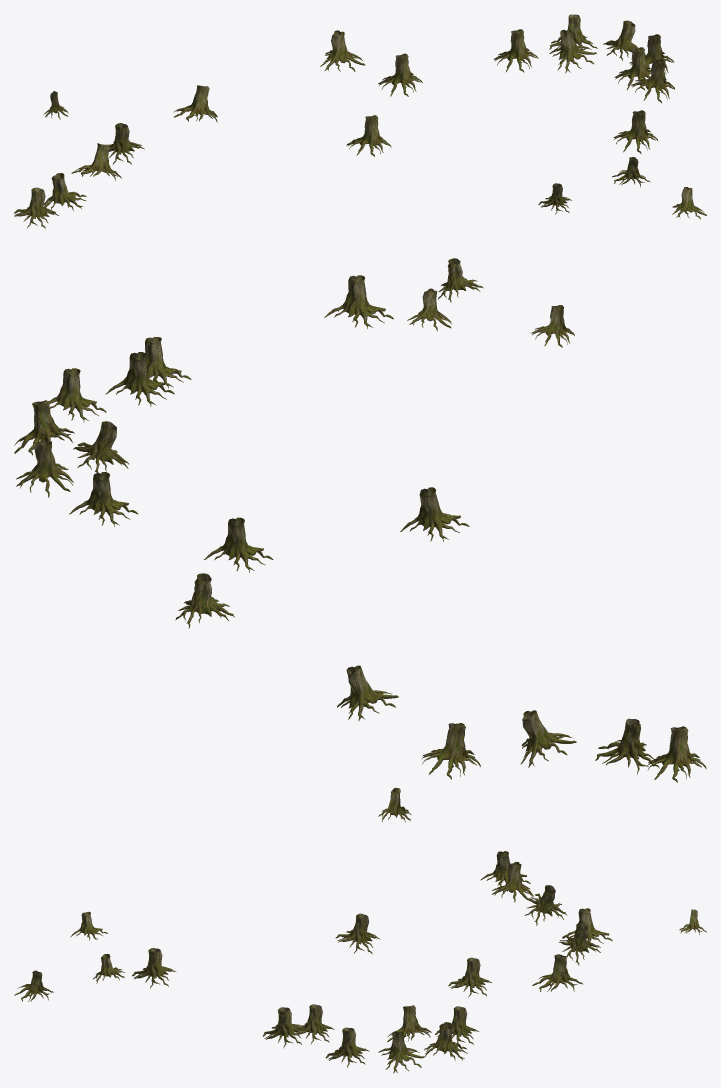
Rendered from treeAa.fbx.
3 renders of one model, top to bottom at view 1: azimuth 30°, elevation 25°; view 2: azimuth 150°, elevation 25°; view 3: azimuth 270°, elevation 25°, orthographic. The views are drawn at different scales.
Parts seen in each view (by area): view 1: m009001_0_4, m009001_0_3, m009001_0_8, m009001_0, m009001_0_7, m009001_0_2, m009001_0_16, m009001_0_5, m009001_0_14, m009001_0_6, m009001_0_15, m009001_0_13 (+7 smaller); view 2: m009001_0_14, m009001_0_15, m009001_0_13, m009001_0_9, m009001_0_6, m009001_0_16, m009001_0_5, m009001_0_2, m009001_0_1, m009001_0_8, m009001_0_3, m009001_0_4 (+4 smaller); view 3: m009001_0_10, m009001_0_6, m009001_0, m009001_0_5, m009001_0_7, m009001_0_3, m009001_0_13, m009001_0_11, m009001_0_8, m009001_0_9, m009001_0_1, m009001_0_14 (+7 smaller).
Part boxes in pixels (box(x1,y1,x2,y2)): m009001_0_4: box(549, 29, 596, 73); m009001_0_3: box(613, 110, 657, 153); m009001_0_8: box(378, 53, 422, 96); m009001_0: box(631, 59, 674, 103); m009001_0_7: box(320, 30, 365, 71); m009001_0_2: box(493, 29, 538, 72); m009001_0_16: box(14, 187, 58, 229); m009001_0_5: box(346, 115, 391, 156); m009001_0_14: box(44, 173, 86, 210); m009001_0_6: box(173, 85, 217, 122); m009001_0_15: box(108, 123, 144, 164); m009001_0_13: box(71, 143, 121, 180); m009001_0_14: box(595, 718, 659, 774); m009001_0_15: box(422, 723, 480, 779); m009001_0_13: box(520, 710, 576, 767); m009001_0_9: box(16, 438, 73, 497); m009001_0_6: box(337, 665, 398, 721); m009001_0_16: box(647, 726, 706, 782); m009001_0_5: box(400, 487, 469, 541); m009001_0_2: box(69, 472, 137, 526); m009001_0_1: box(105, 352, 174, 406); m009001_0_8: box(204, 517, 273, 572); m009001_0_3: box(324, 275, 393, 328); m009001_0_4: box(73, 421, 128, 472); m009001_0_10: box(378, 1031, 424, 1073); m009001_0_6: box(559, 923, 600, 965); m009001_0: box(262, 1007, 302, 1048); m009001_0_5: box(335, 913, 379, 954); m009001_0_7: box(532, 954, 583, 991); m009001_0_3: box(132, 948, 175, 988); m009001_0_13: box(525, 885, 567, 925); m009001_0_11: box(325, 1027, 369, 1067); m009001_0_8: box(448, 957, 491, 997); m009001_0_9: box(424, 1022, 467, 1060); m009001_0_1: box(293, 1004, 334, 1044); m009001_0_14: box(491, 862, 533, 902).
Bounding box in the file's own units: 596439 × 136503 × 643398.
Materials: 20 (20 with a texture image).
